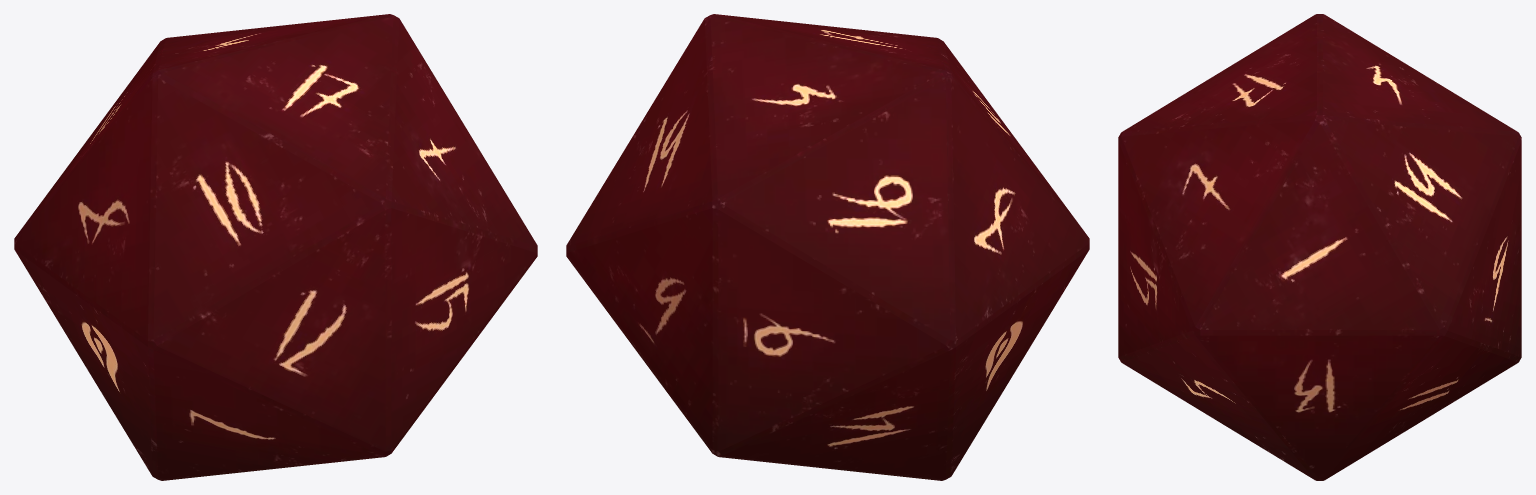
File: DragonGem_d20.gltf
3 renders of one model, left to right at view 1: azimuth 30°, elevation 25°; view 2: azimuth 150°, elevation 25°; view 3: azimuth 270°, elevation 25°, orthographic. The views are drawn at different scales.
Visible parts, largest first — view 1: dragongem_d20; view 2: dragongem_d20; view 3: dragongem_d20.
Part boxes in pixels (x1=…): dragongem_d20: x1=14, y1=14, x2=537, y2=480; dragongem_d20: x1=566, y1=14, x2=1089, y2=480; dragongem_d20: x1=1118, y1=14, x2=1521, y2=480.
Size of the model in its own units: 170 by 170 by 170.
Materials: 1 (1 with a texture image).
